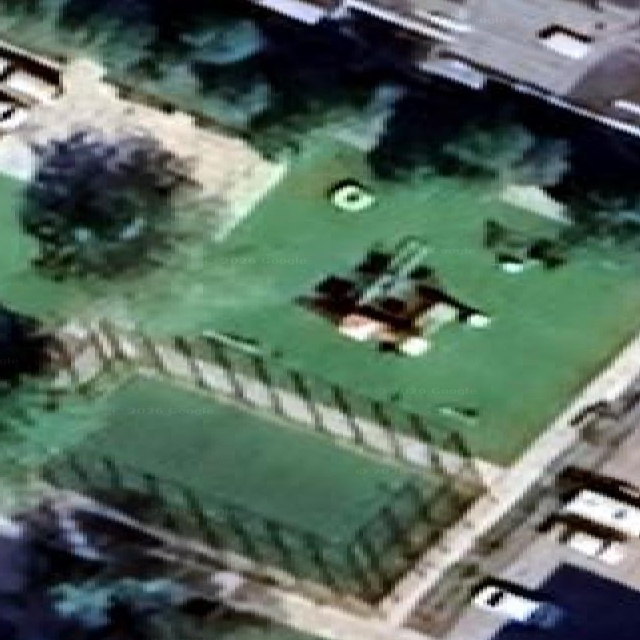car: (473, 582, 563, 628)
